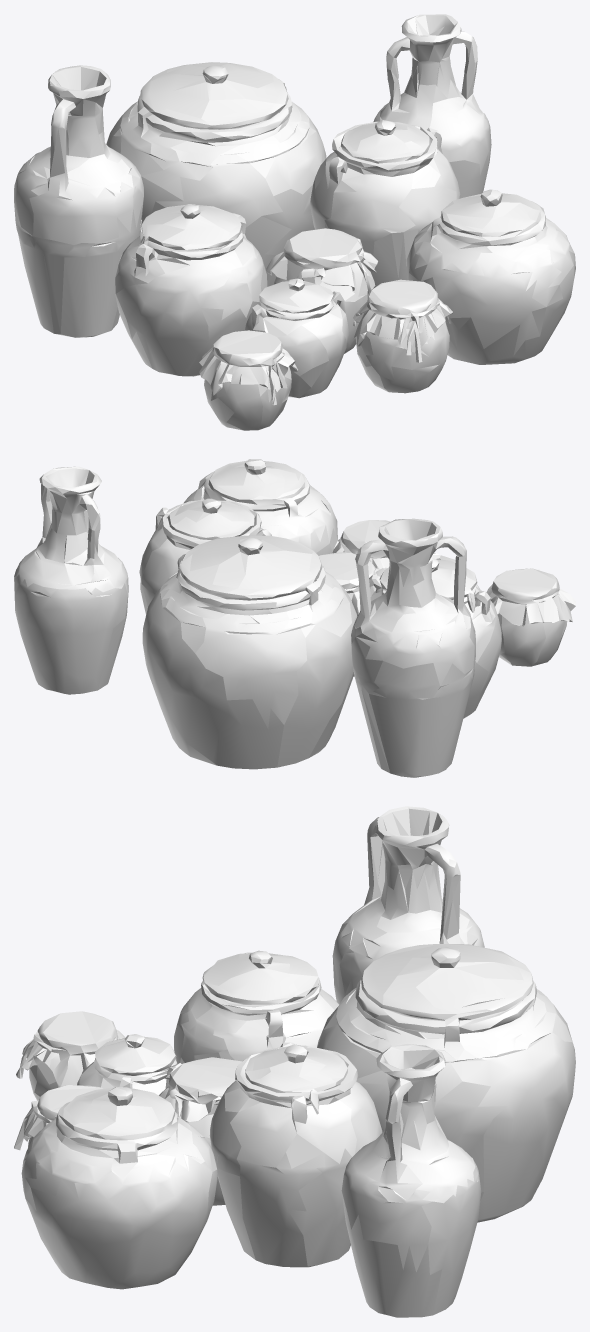
Rendered from jar_cluster.glb.
3 renders of one model, top to bottom at view 1: azimuth 30°, elevation 25°; view 2: azimuth 150°, elevation 25°; view 3: azimuth 270°, elevation 25°, orthographic. The views are drawn at different scales.
Parts seen in each view (by area): view 1: Mesh_0; view 2: Mesh_0; view 3: Mesh_0.
Part boxes in pixels (bbox=[...]): Mesh_0: bbox=[14, 14, 575, 430]; Mesh_0: bbox=[14, 459, 575, 777]; Mesh_0: bbox=[14, 806, 575, 1317].
Bounding box in the file's own units: 1.4 × 0.7043 × 1.28.
1 material, 1 textured.
